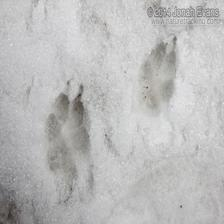coyote: (37, 81, 97, 184)
